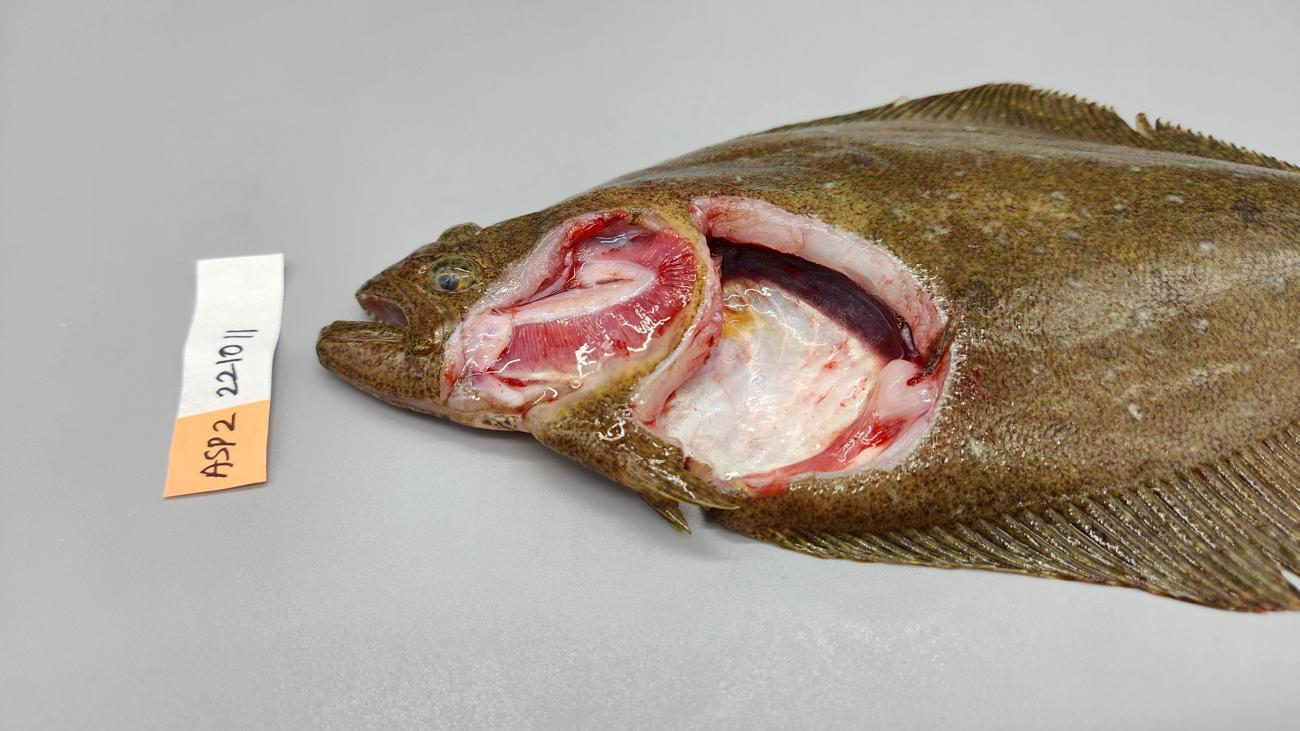SPASQ: (659, 278, 884, 481)
